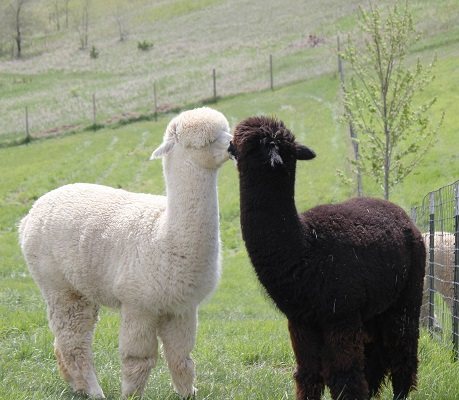alpaca: (17, 108, 233, 400), (230, 114, 426, 400)
